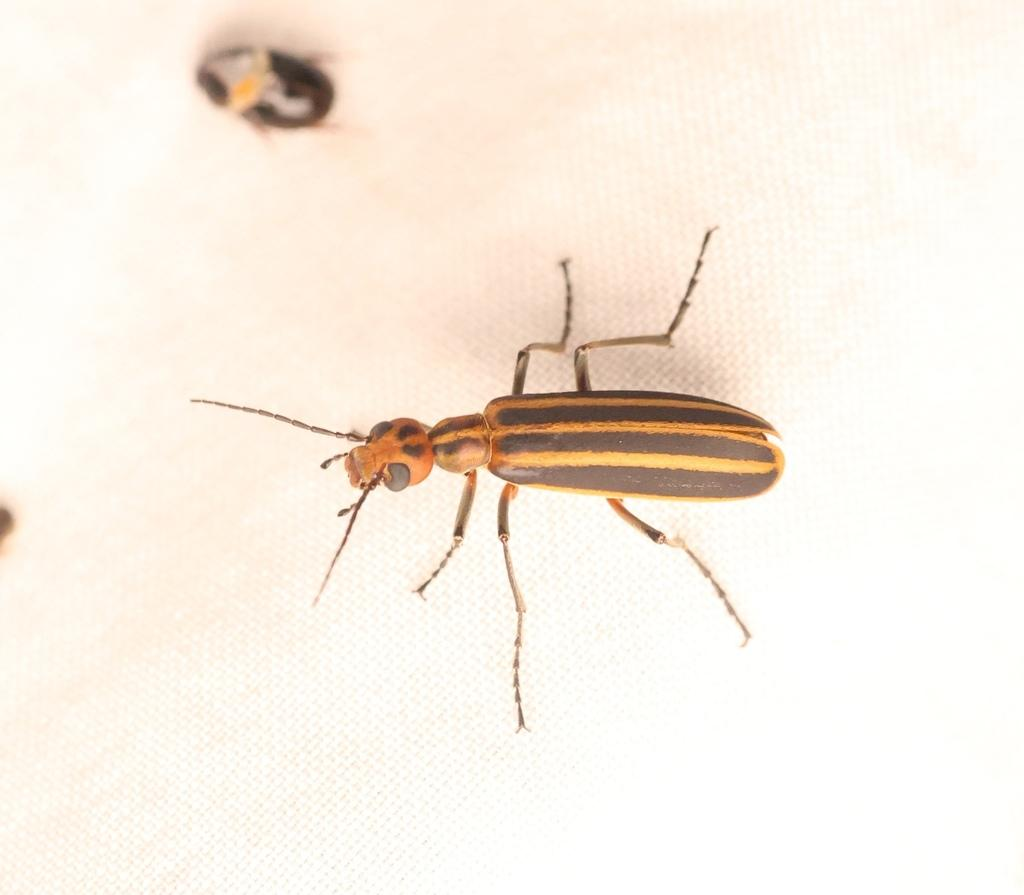blister_beetle: (123, 137, 971, 811)
